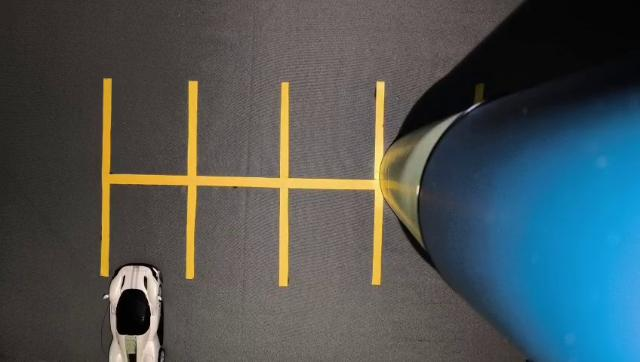toy_car: (86, 230, 208, 362)
